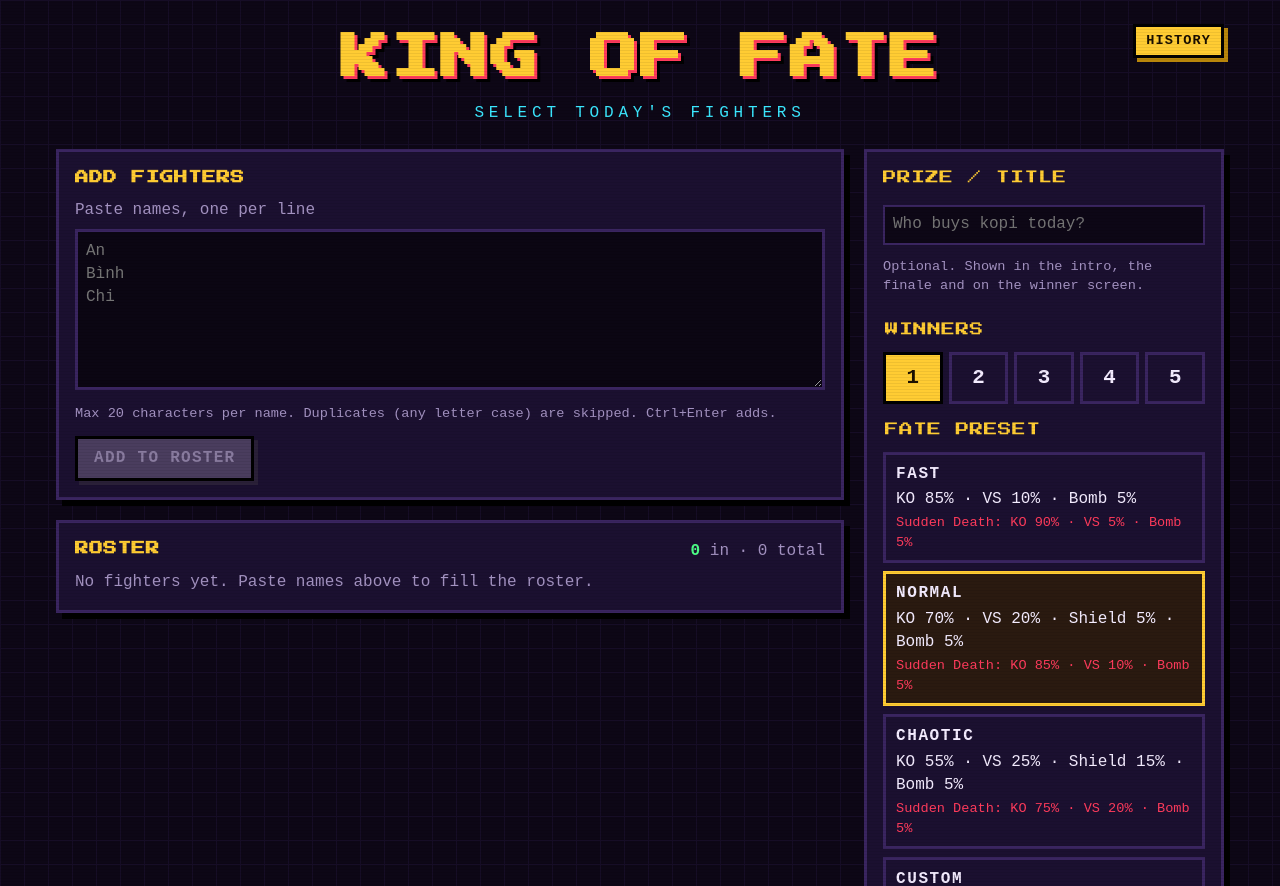
History screen (Phase 6) › lists matches newest first and opens one with its full log
Click the button "History" at coordinates (1179, 41), box [1133,24,1224,58]
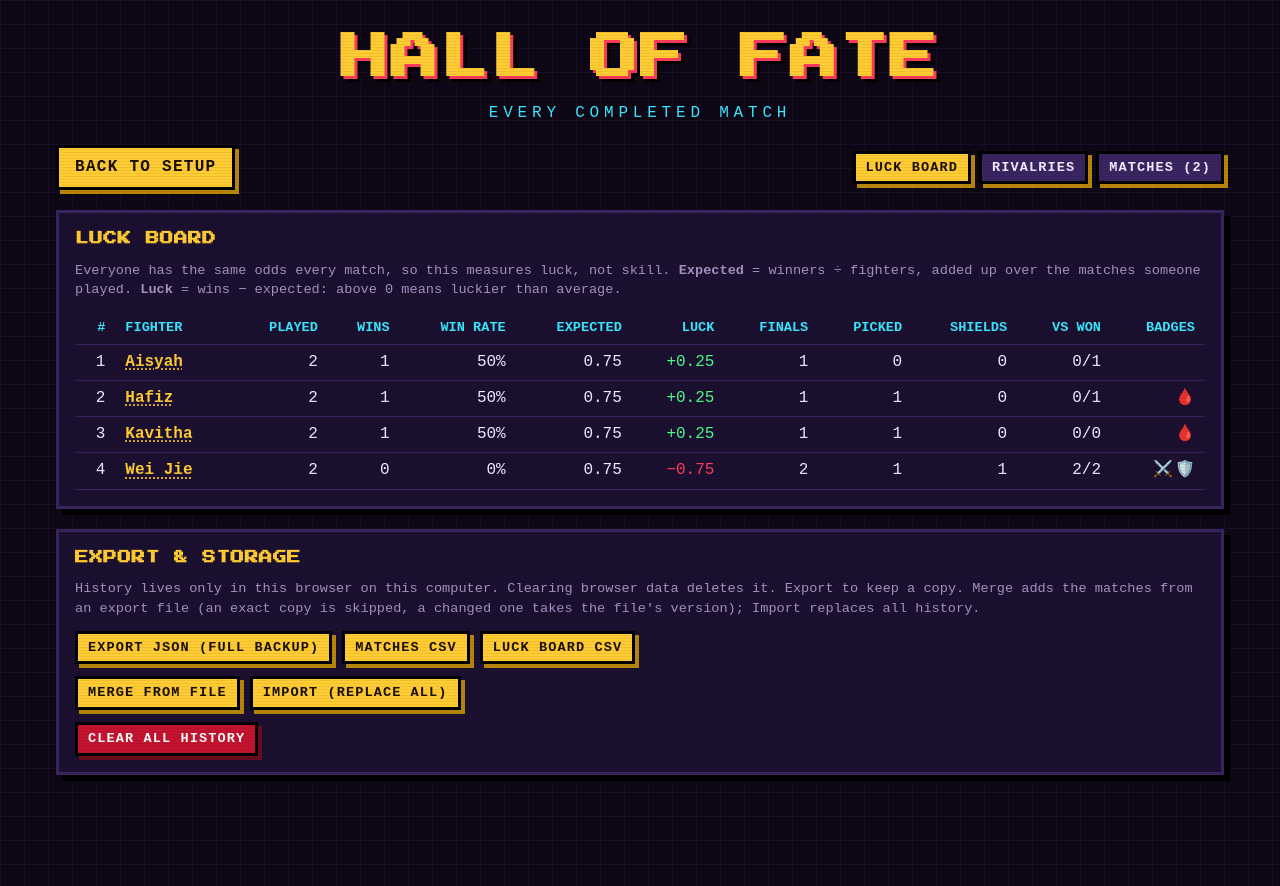
Result: the heading "Hall of Fate" is shown at [340,34,940,82]
Click the button "Matches (2)" at coordinates (1160, 167), box [1096,150,1224,184]
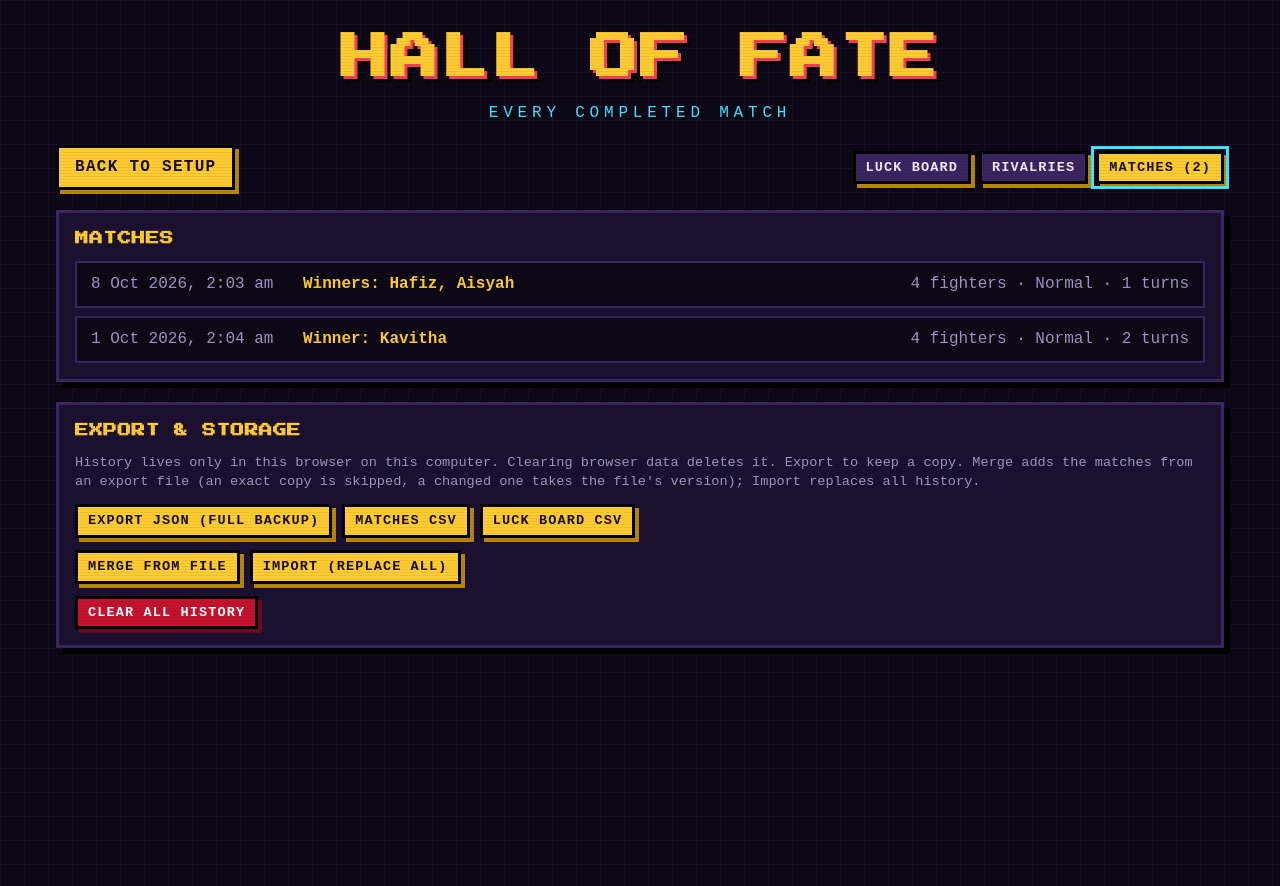
Result: the button that starts with "1 Oct 2026, 2:04 am" shows "Winner: Kavitha"
Click the button that starts with "1 Oct 2026, 2:04 am" at coordinates (182, 339), box [75,316,1205,363]
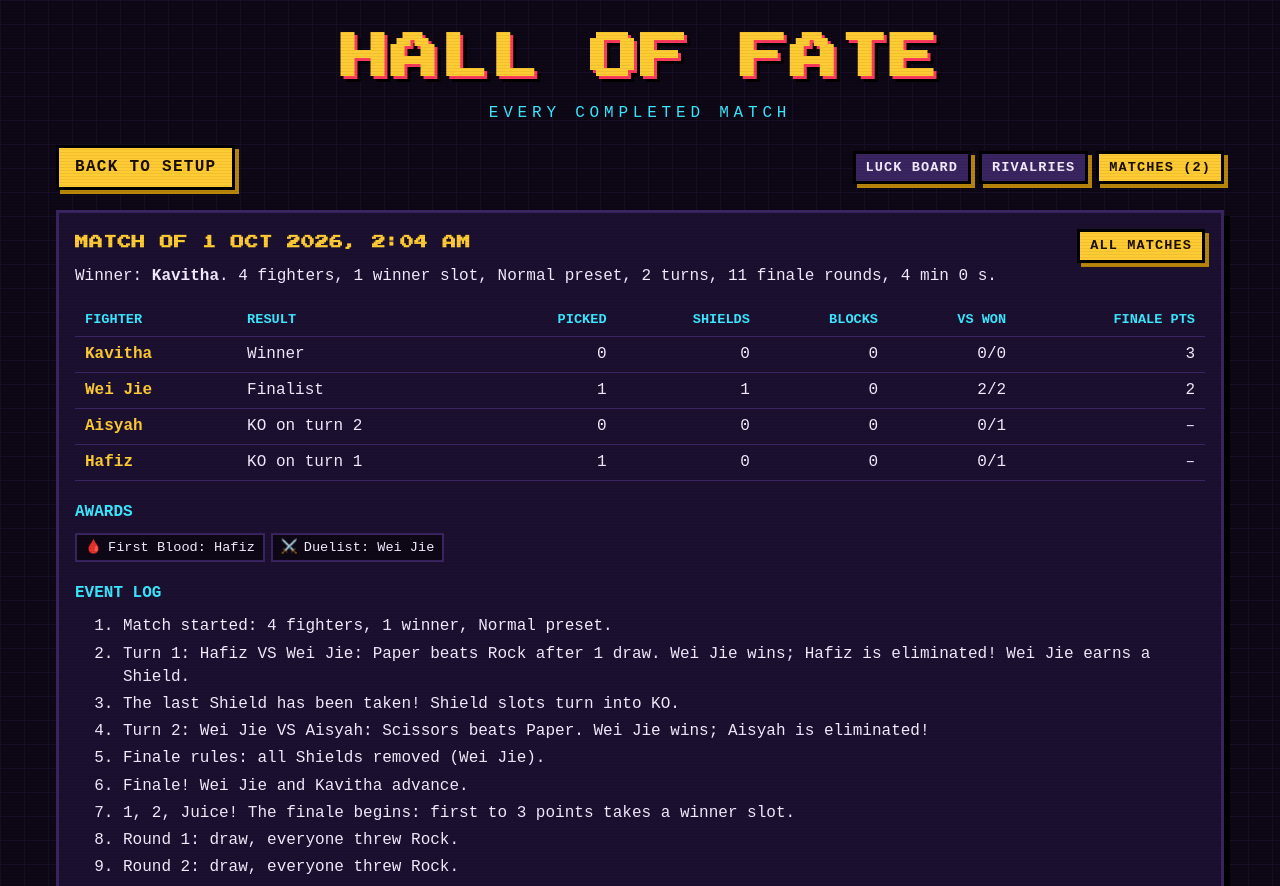
Result: the element with test id "match-summary" shows "4 min 0 s" at [901,267,987,285]
Result: the list item "Match started: 4 fighters, 1 winner, Normal preset." is shown at [123,617,613,635]
Result: the row "Kavitha Winner 0 0 0 0/0 3" is shown at [75,336,1205,372]
